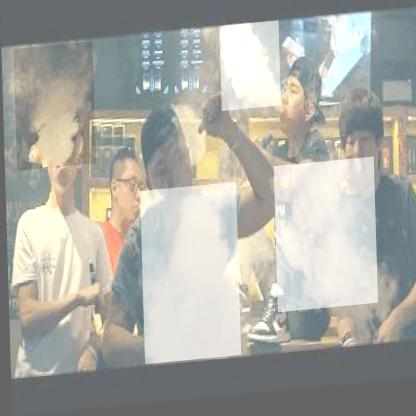smoke: (139, 187, 239, 367), (272, 164, 376, 318), (13, 43, 95, 171), (219, 26, 280, 115)
